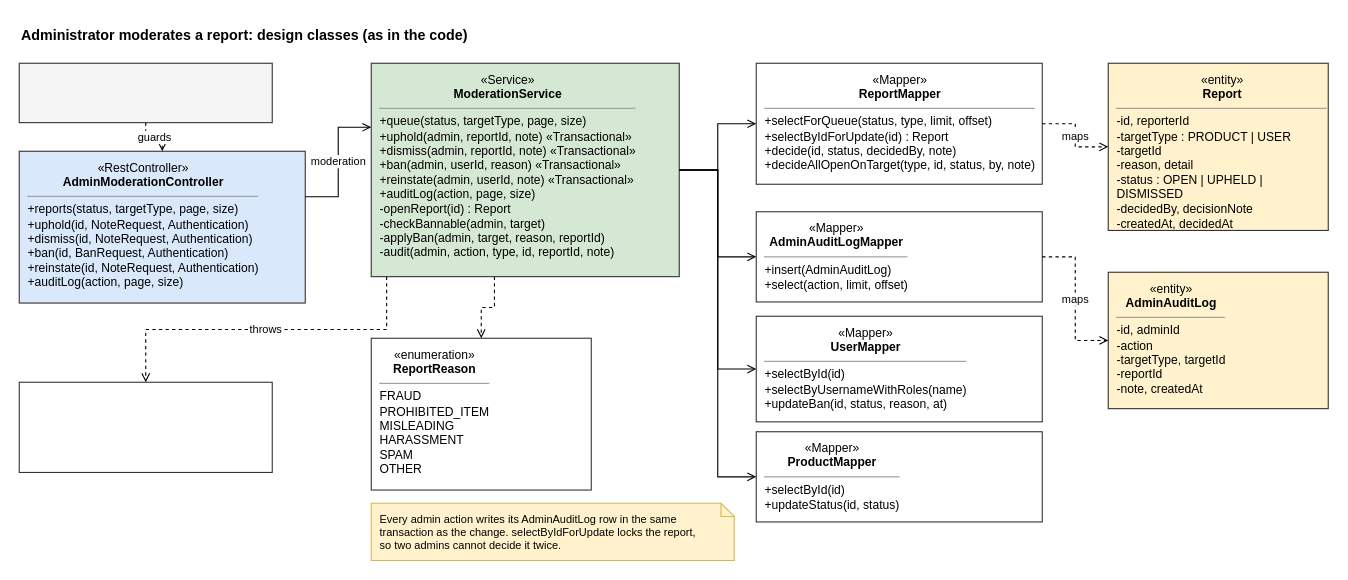
This 1348x580 diagram has some shape labels left out. Each missing label, with the centre of its shape:
ModerationException badRequest() 400 notFound() 404 conflict() 409: point 145,426
SecurityConfig /api/admin/** → hasRole("ADMIN"): point 145,92
